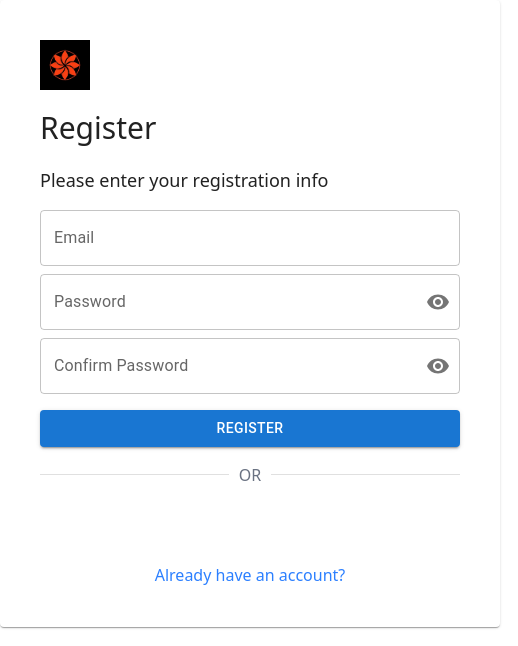
it: SignUpPage - User Flows › Registration Flow › successfully registers user and transitions to OTP verification
The image size is (518, 646).
// User enters valid registration details
Step 1. Type "newuser@example.com" into the field labelled "Email" → (250, 238), box [40,210,460,266]
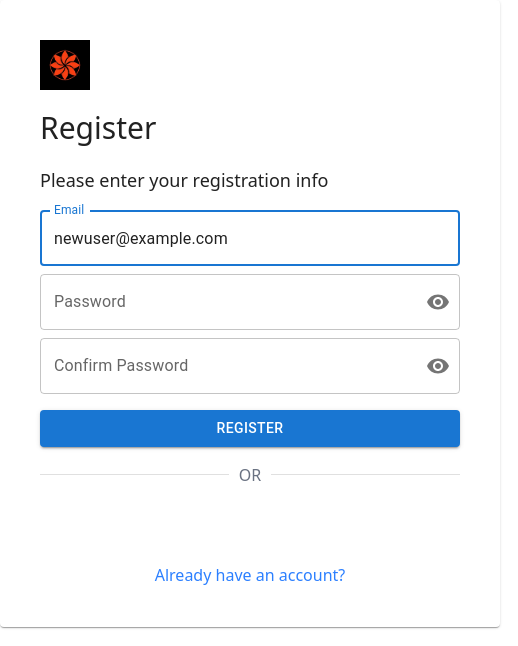
Step 2. Type "password123" into the password field labelled "Password" → (225, 302), box [40,274,410,330]
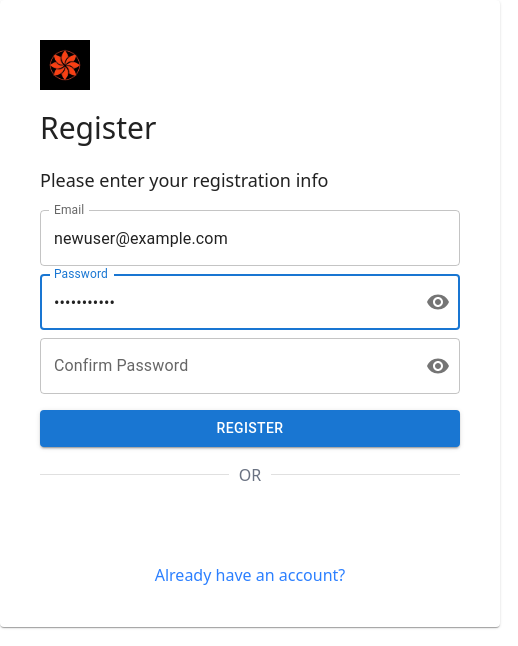
Step 3. Type "password123" into the password field labelled "Confirm Password" → (225, 366), box [40,338,410,394]
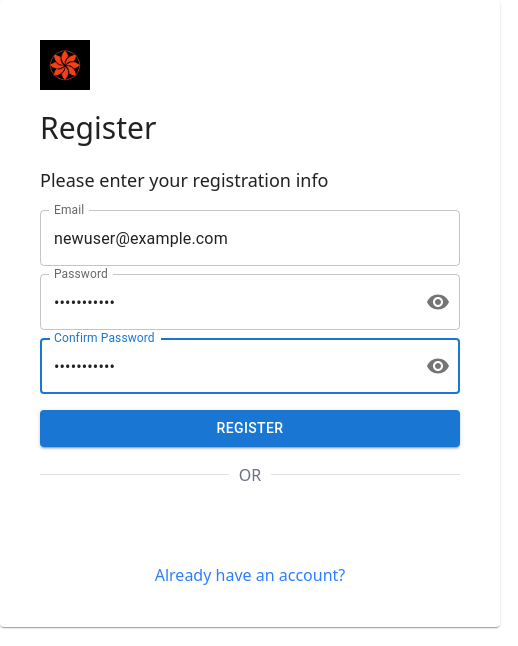
Step 4. Click the button "Register" → (250, 428), box [40,410,460,446]
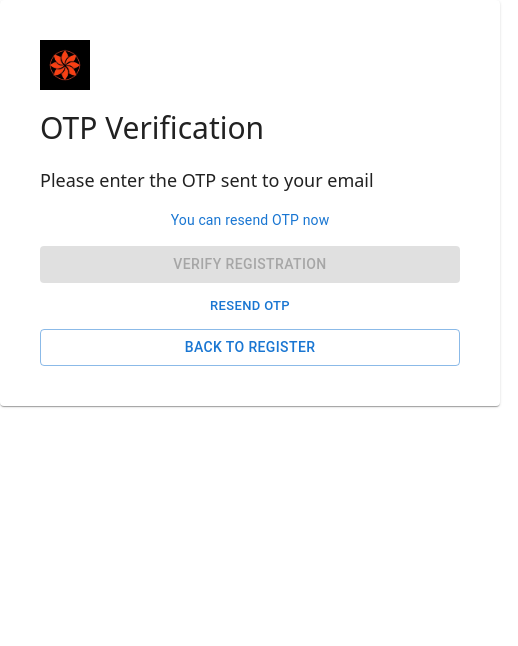
Now the text "OTP Verification" is shown, box [40,107,264,148]
